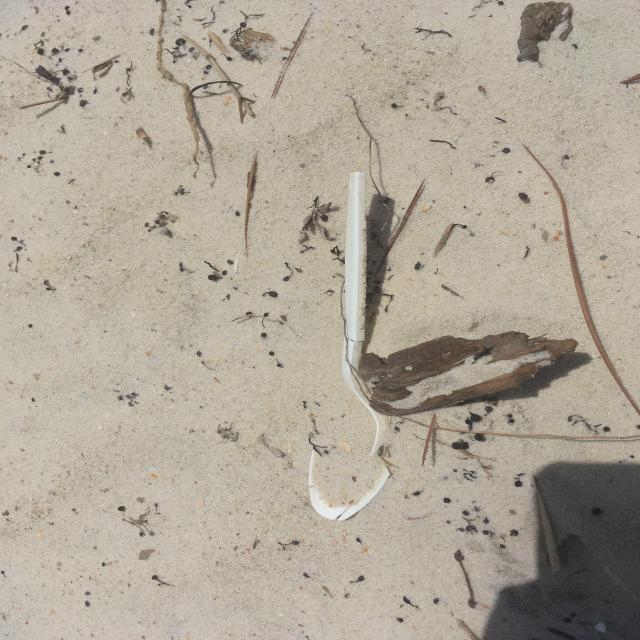litter: (313, 156, 603, 442)
